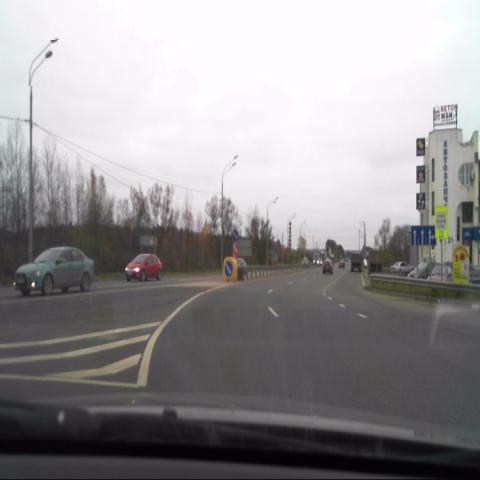5_15_1: (411, 224, 435, 245)
